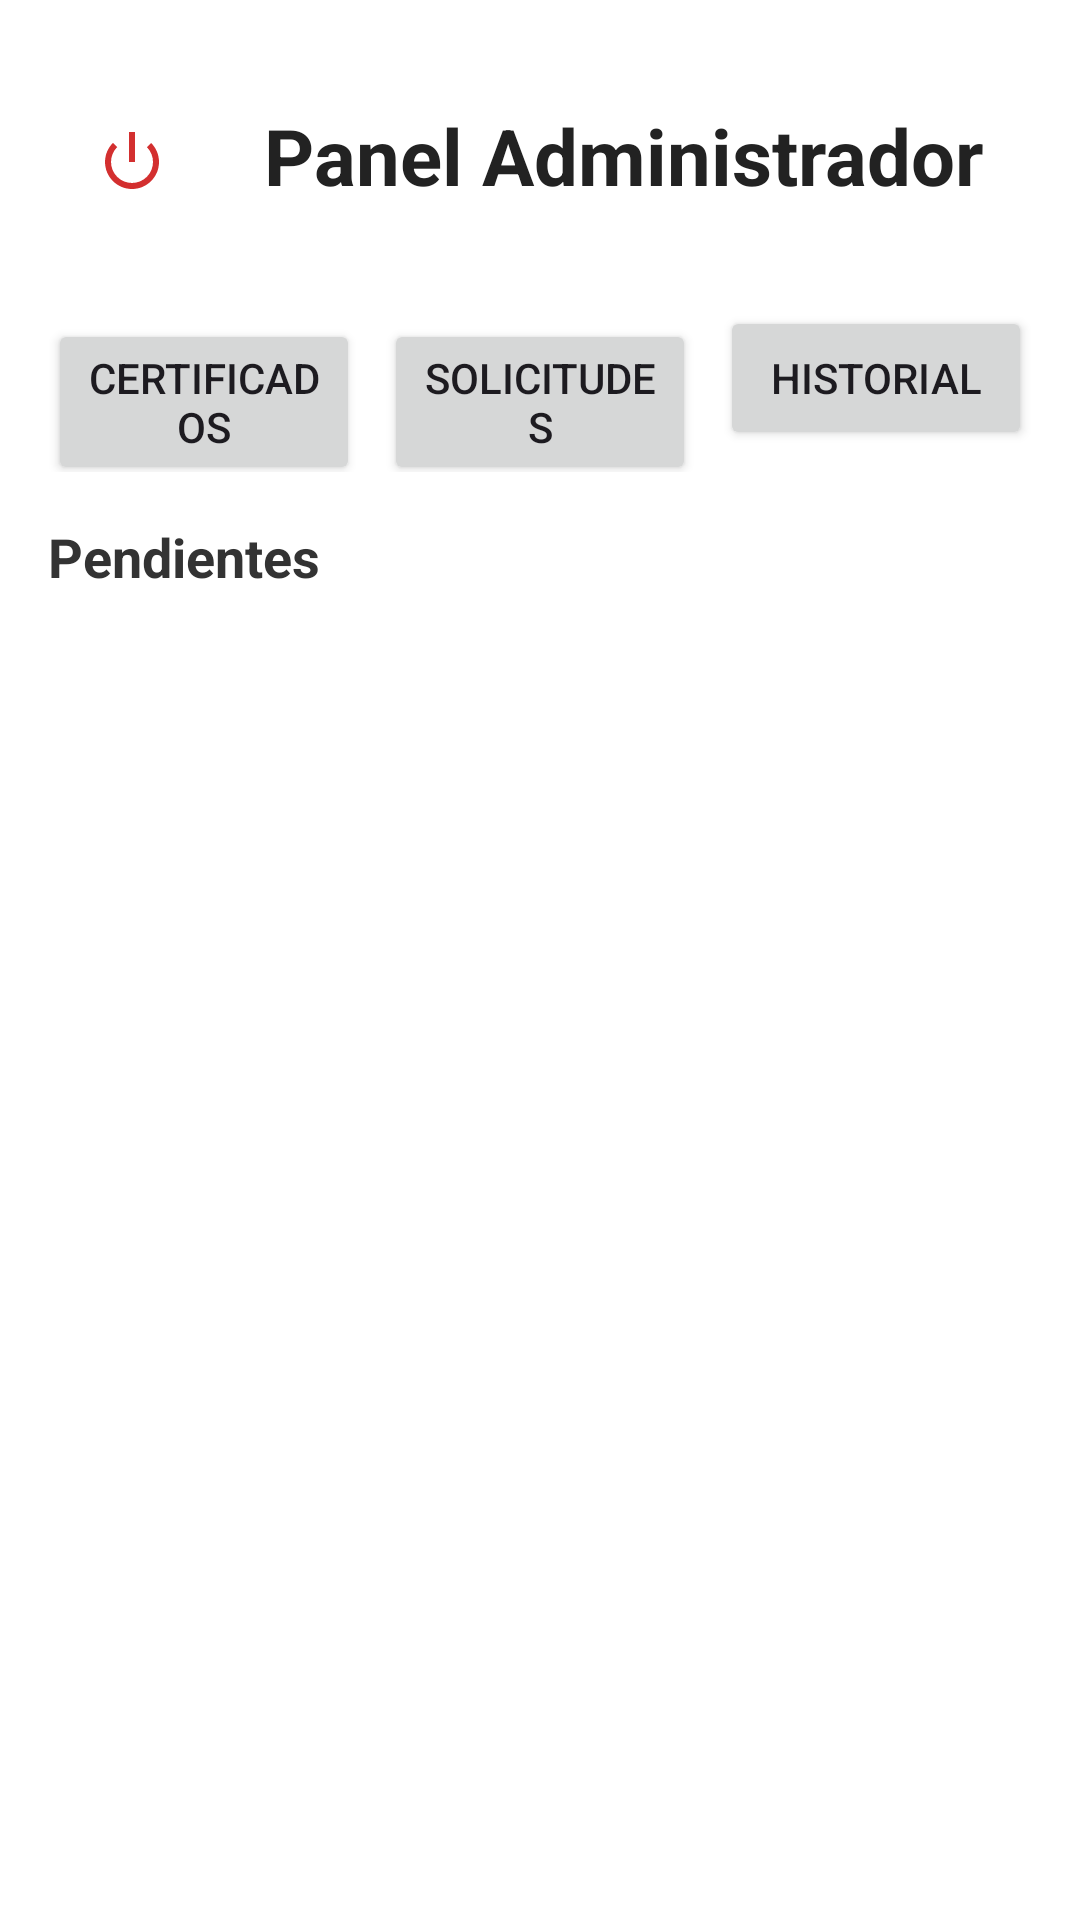

Icons on this 1080w x 1920h Android screen, each with the point to tap as (x=x, y=y):
Cerrar sesión: (x=132, y=160)
